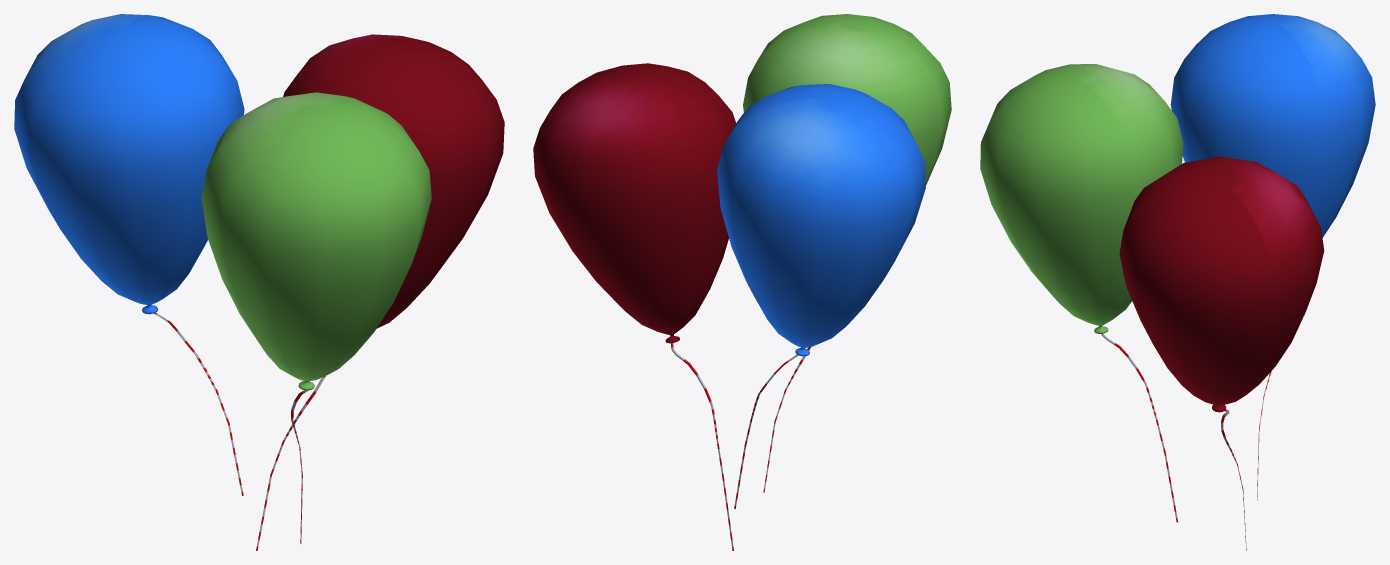
The model's file is balloons.fbx.
3 views of the same model, side by side, from view 1: azimuth 30°, elevation 25°; view 2: azimuth 150°, elevation 25°; view 3: azimuth 270°, elevation 25° (orthographic). The views are drawn at different scales.
Parts seen in each view (by area): view 1: Ballon; view 2: Ballon; view 3: Ballon.
Boxes of the visible parts, box(x1,y1,x2,y2) form: Ballon: box(14, 14, 504, 550); Ballon: box(533, 14, 951, 550); Ballon: box(980, 14, 1375, 550).
Bounding box in the file's own units: 7.56 × 9.05 × 6.78.
